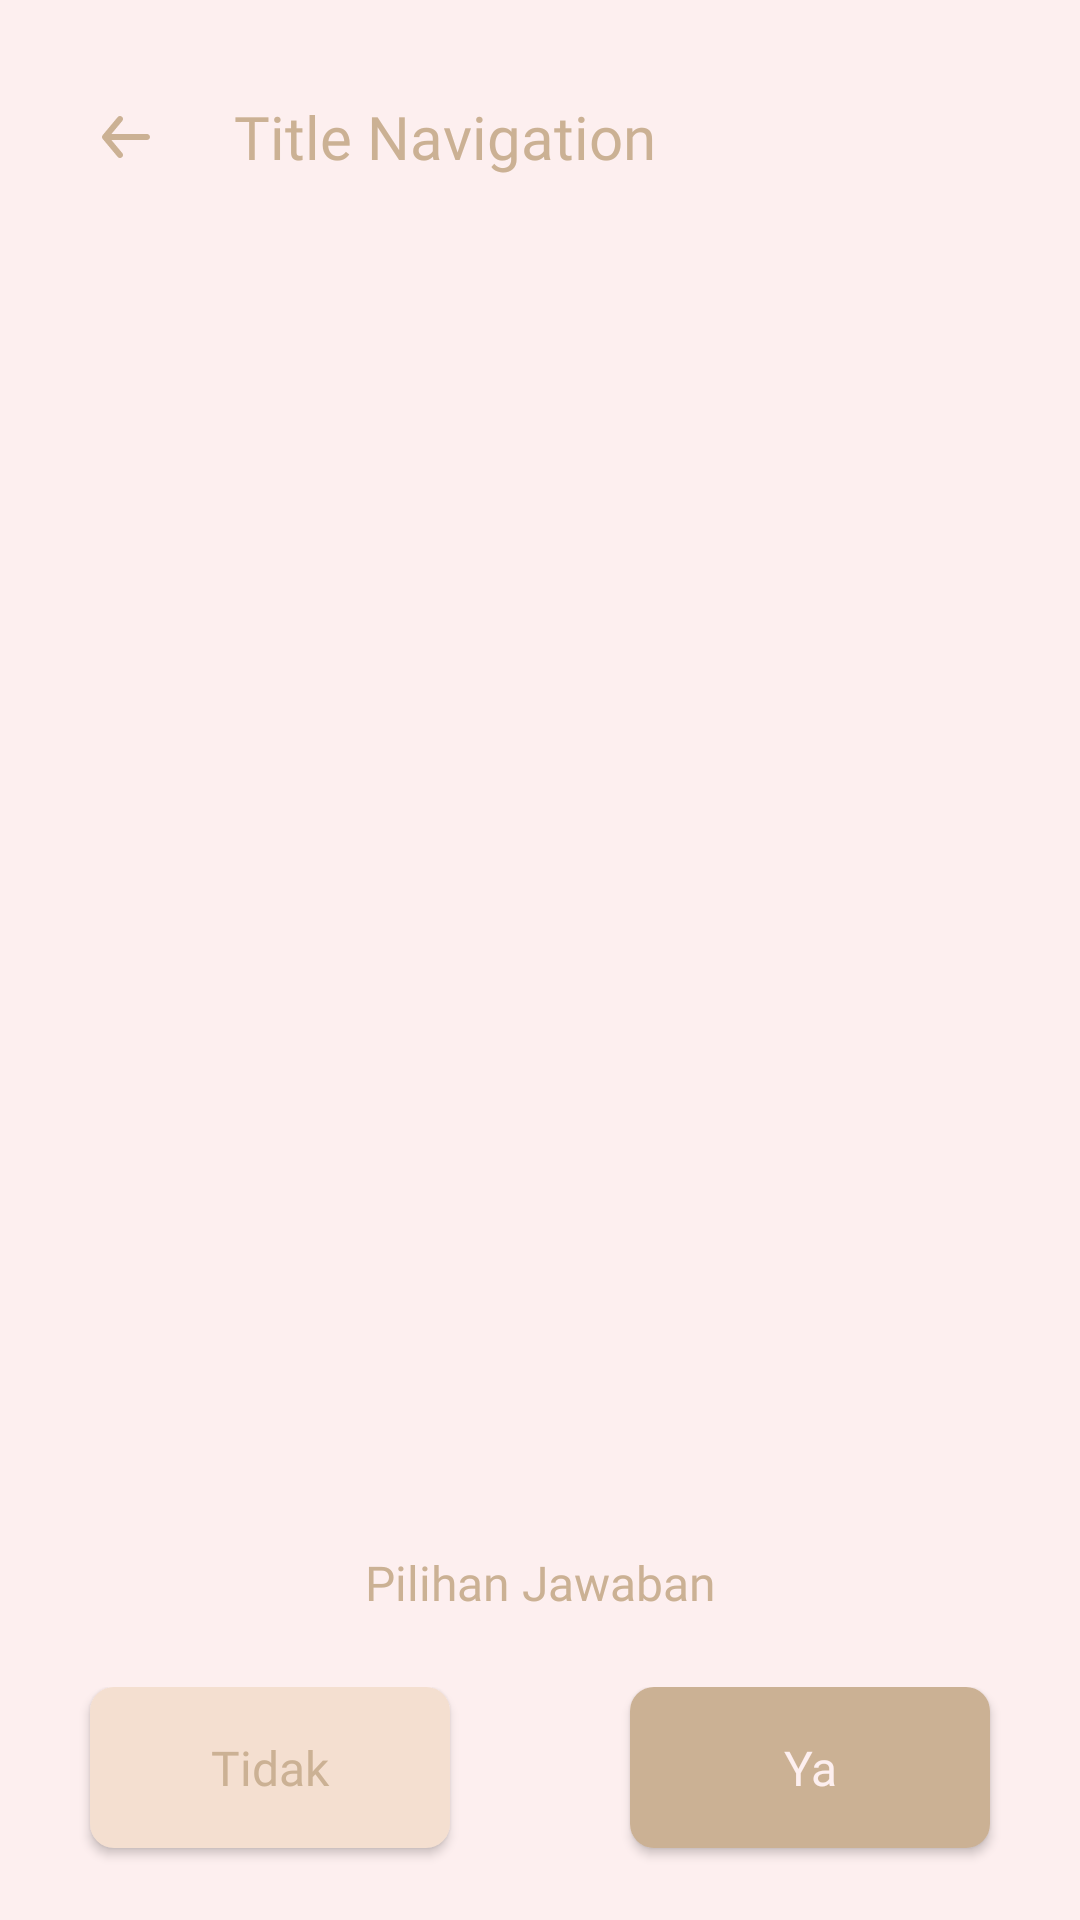

Named icons in this screenshot (1080×1920) and their bounding boxes, {"left": x1, "top": y1, "right": x2, "bottom": y2}:
Back: {"left": 102, "top": 116, "right": 150, "bottom": 158}
